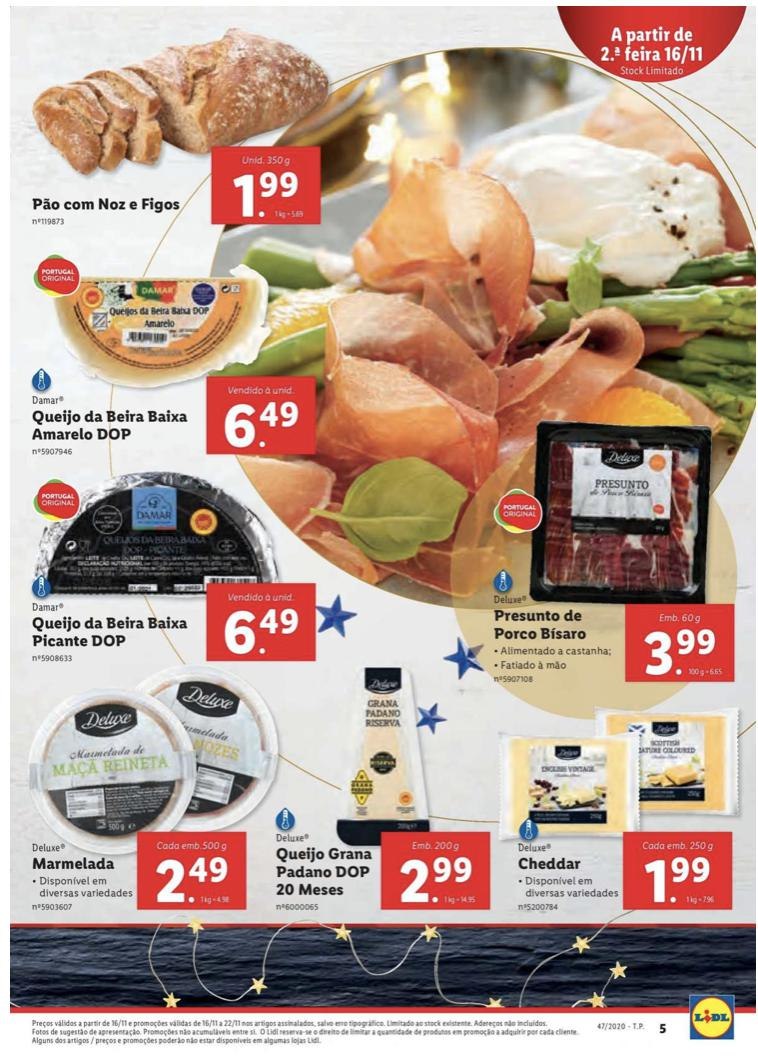name: (27, 404, 193, 446), (271, 843, 376, 900), (30, 614, 188, 650), (489, 605, 594, 647), (29, 192, 184, 217), (26, 852, 119, 875), (510, 851, 588, 875)
price: (202, 372, 319, 456), (212, 144, 325, 229), (621, 830, 735, 911), (626, 601, 734, 685), (137, 831, 250, 910), (205, 582, 313, 664), (380, 831, 489, 909)
product: (460, 392, 742, 707), (14, 26, 364, 243), (489, 647, 751, 925), (12, 254, 330, 465), (19, 464, 329, 677), (255, 647, 487, 922), (17, 689, 255, 922)
